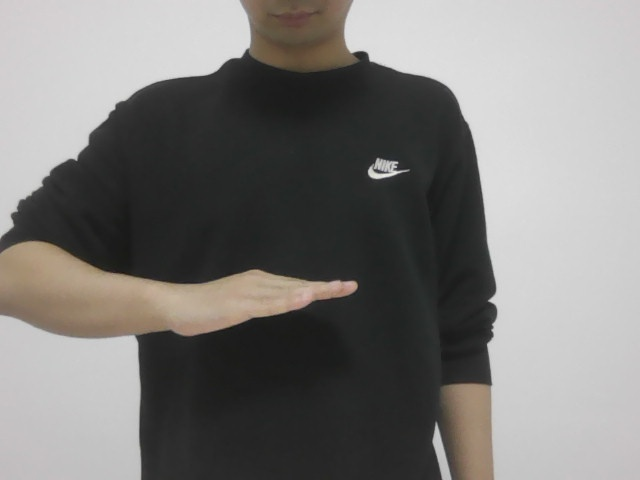safe: (165, 250, 359, 349)
